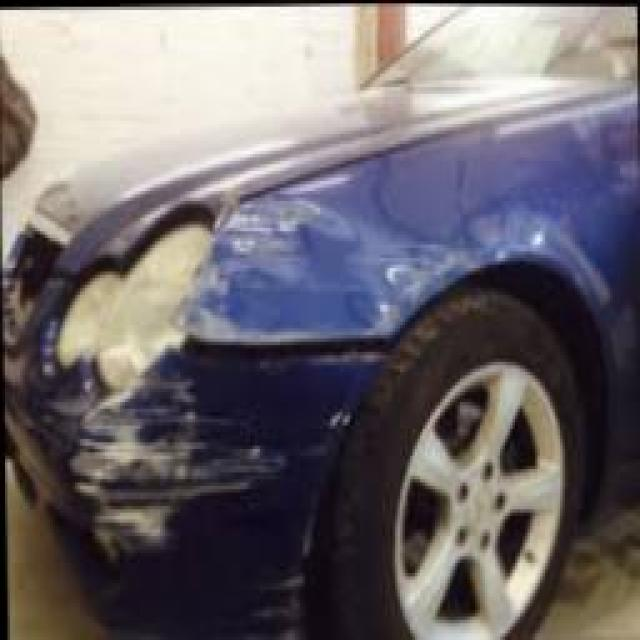Bumper: (22, 348, 324, 619)
Fender: (200, 157, 588, 335)
